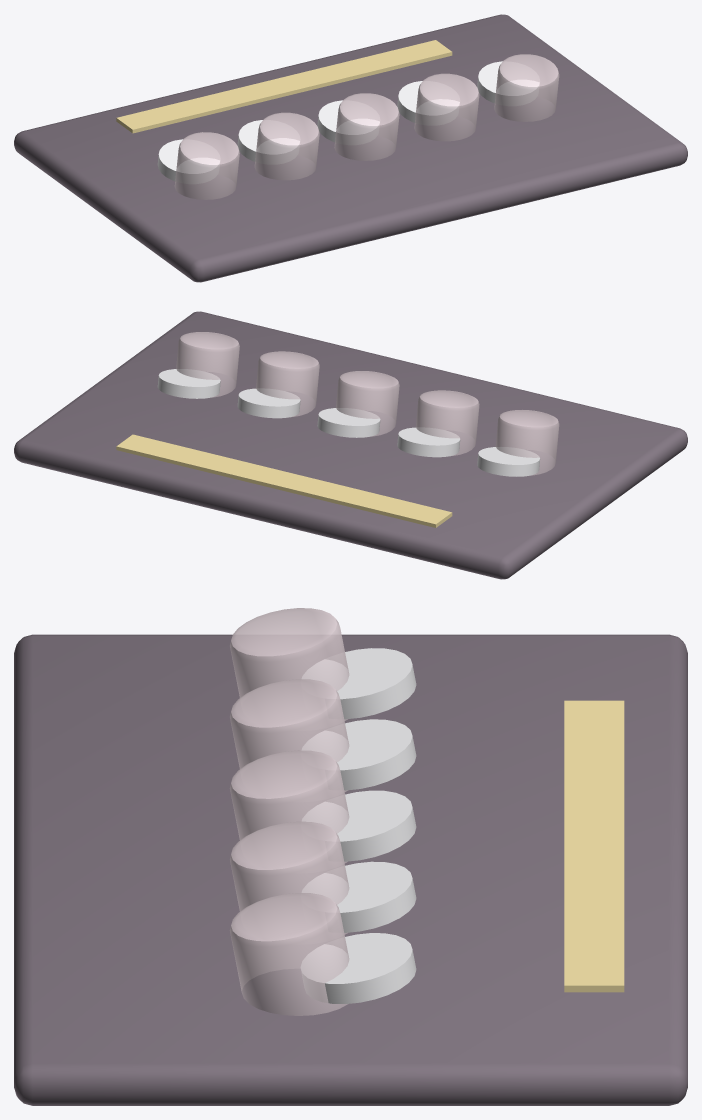
File: set-rose-quartz-french.glb
The picture shows the model from 3 angles, top to bottom: view 1: azimuth 30°, elevation 25°; view 2: azimuth 150°, elevation 25°; view 3: azimuth 270°, elevation 25°; orthographic projection. The views are drawn at different scales.
Visible parts, largest first — view 1: rosequartz_VelvetCard, rosequartz_GoldBar, rosequartz_Tip_1, rosequartz_Tip_3, rosequartz_Tip_0, rosequartz_Tip_2, rosequartz_Tip_4, rosequartz_FrenchSmile_4, rosequartz_FrenchSmile_0, rosequartz_FrenchSmile_1, rosequartz_FrenchSmile_3, rosequartz_FrenchSmile_2; view 2: rosequartz_VelvetCard, rosequartz_GoldBar, rosequartz_Tip_3, rosequartz_Tip_1, rosequartz_Tip_2, rosequartz_Tip_0, rosequartz_Tip_4, rosequartz_FrenchSmile_3, rosequartz_FrenchSmile_1, rosequartz_FrenchSmile_2, rosequartz_FrenchSmile_4, rosequartz_FrenchSmile_0; view 3: rosequartz_VelvetCard, rosequartz_GoldBar, rosequartz_Tip_4, rosequartz_Tip_1, rosequartz_Tip_0, rosequartz_Tip_2, rosequartz_Tip_3, rosequartz_FrenchSmile_4, rosequartz_FrenchSmile_1, rosequartz_FrenchSmile_2, rosequartz_FrenchSmile_0, rosequartz_FrenchSmile_3.
Part boxes in pixels (x1,y1,x2,y2): rosequartz_VelvetCard: (14,14,687,282); rosequartz_GoldBar: (116,40,452,133); rosequartz_Tip_1: (254,112,319,180); rosequartz_Tip_3: (414,73,479,141); rosequartz_Tip_0: (174,132,239,199); rosequartz_Tip_2: (334,93,399,160); rosequartz_Tip_4: (494,54,559,121); rosequartz_FrenchSmile_4: (477,61,539,105); rosequartz_FrenchSmile_0: (157,139,219,183); rosequartz_FrenchSmile_1: (237,120,299,164); rosequartz_FrenchSmile_3: (397,81,459,125); rosequartz_FrenchSmile_2: (317,100,379,144); rosequartz_VelvetCard: (14,311,687,579); rosequartz_GoldBar: (116,434,452,527); rosequartz_Tip_3: (256,351,319,417); rosequartz_Tip_1: (415,390,479,455); rosequartz_Tip_2: (336,371,399,436); rosequartz_Tip_0: (495,410,559,475); rosequartz_Tip_4: (176,332,239,397); rosequartz_FrenchSmile_3: (237,388,300,418); rosequartz_FrenchSmile_1: (397,427,460,457); rosequartz_FrenchSmile_2: (317,408,380,437); rosequartz_FrenchSmile_4: (157,369,220,398); rosequartz_FrenchSmile_0: (477,447,540,476); rosequartz_VelvetCard: (14,634,687,1105); rosequartz_GoldBar: (564,700,624,992); rosequartz_Tip_4: (229,893,349,1015); rosequartz_Tip_1: (230,679,349,791); rosequartz_Tip_0: (230,608,349,720); rosequartz_Tip_2: (229,750,349,863); rosequartz_Tip_3: (230,821,349,934); rosequartz_FrenchSmile_4: (301,933,416,1003); rosequartz_FrenchSmile_1: (302,719,416,790); rosequartz_FrenchSmile_2: (302,790,416,861); rosequartz_FrenchSmile_0: (302,648,416,719); rosequartz_FrenchSmile_3: (302,861,416,932).
Size of the model in its own units: 0.28 by 0.038 by 0.18.
